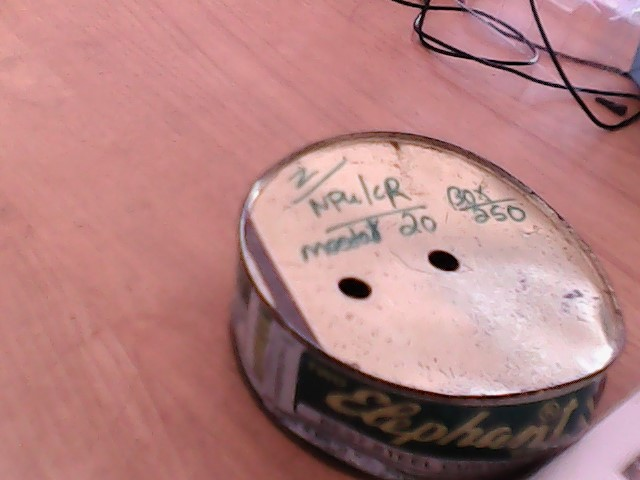Metal: (233, 120, 640, 480)
